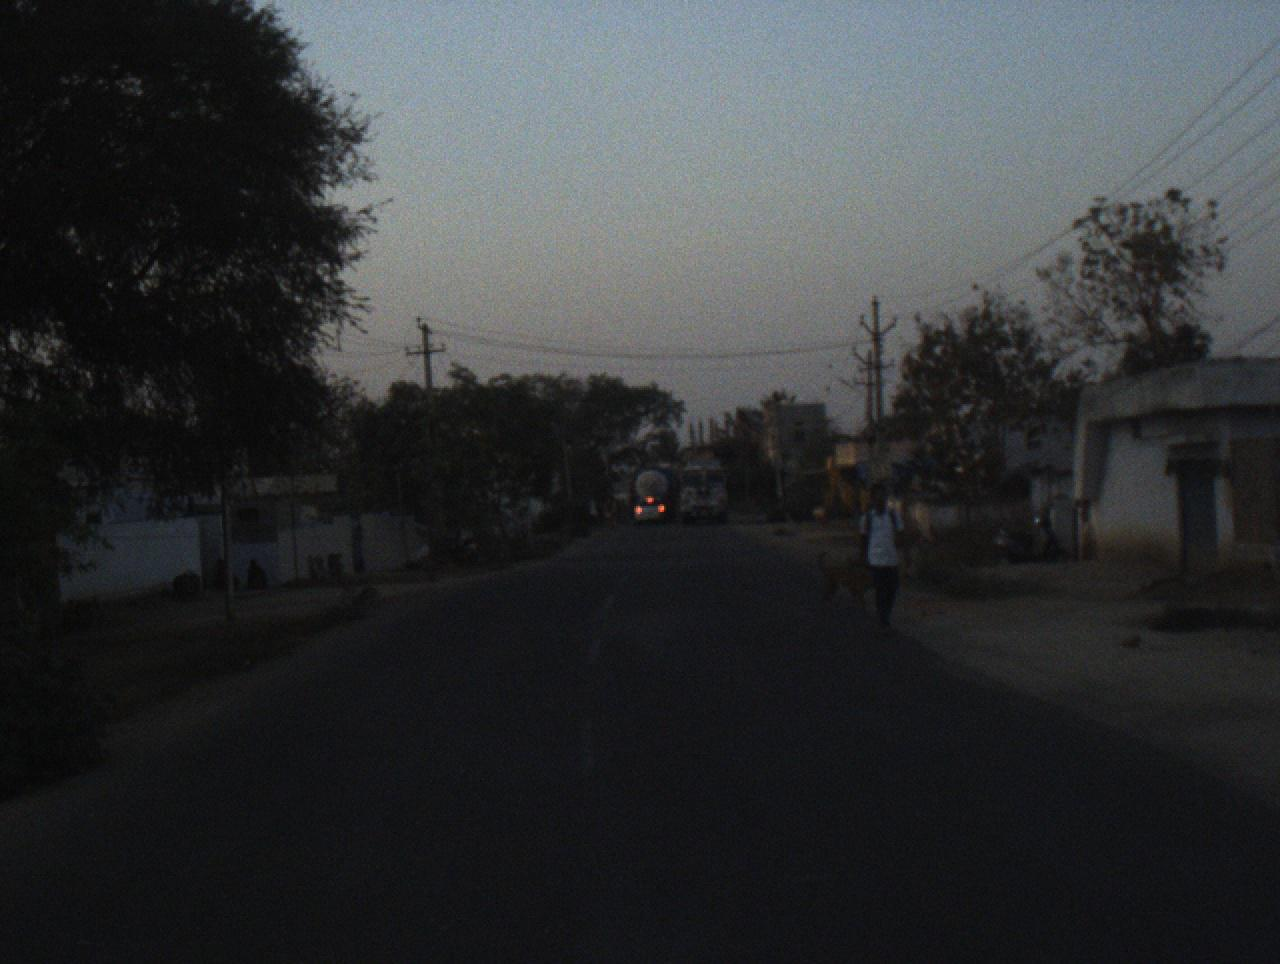off: (60, 0, 1239, 896)
